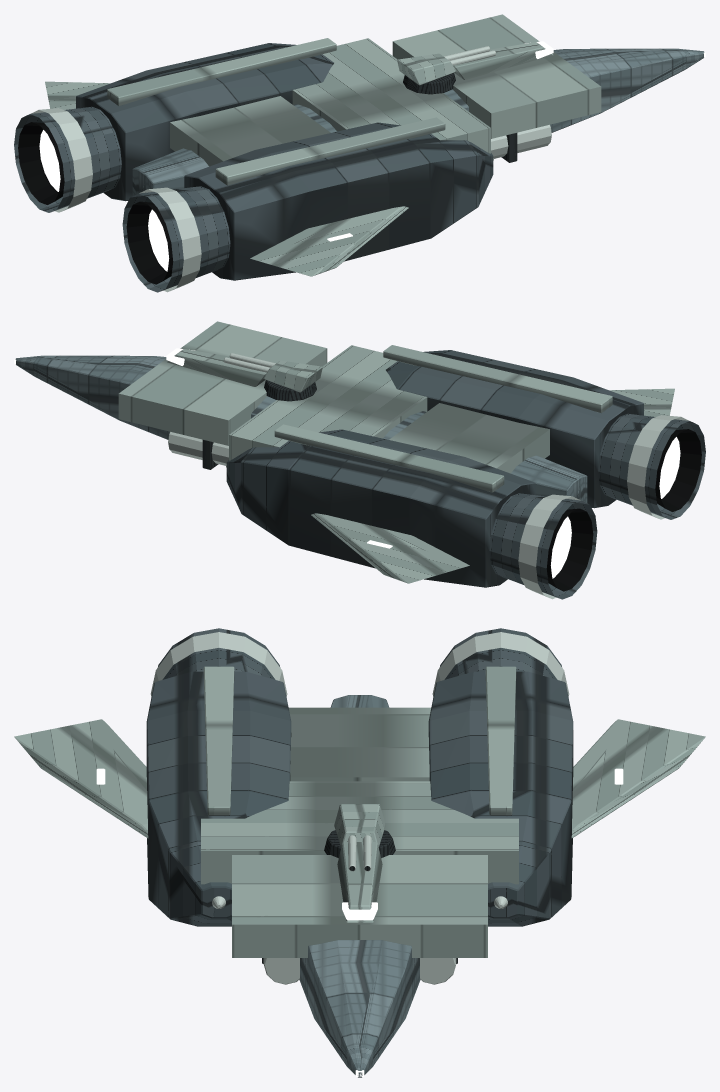
File: corvette.glb
3 views of the same model, one above another, from view 1: azimuth 30°, elevation 25°; view 2: azimuth 150°, elevation 25°; view 3: azimuth 270°, elevation 25° (orthographic). The views are drawn at different scales.
Parts seen in each view (by area): view 1: corvette; view 2: corvette; view 3: corvette.
Boxes of the visible parts, left/top/right/bottom form: corvette: left=14, top=14, right=705, bottom=292; corvette: left=14, top=321, right=705, bottom=599; corvette: left=14, top=628, right=705, bottom=1077.
Size of the model in its own units: 20 by 3.45 by 15.11.
Materials: 1 (1 with a texture image).
